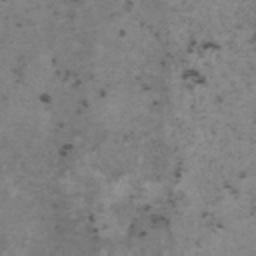Oxide scale of temperature system: (50, 157, 247, 243), (69, 0, 224, 108), (37, 55, 108, 157), (250, 33, 256, 42)
